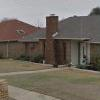Chimney: (39, 11, 61, 41)
